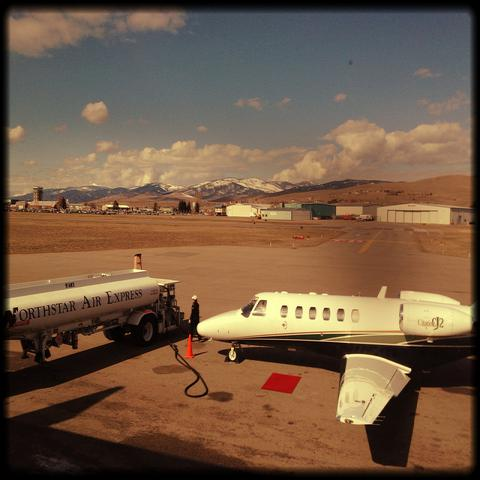truck: (5, 270, 185, 366)
